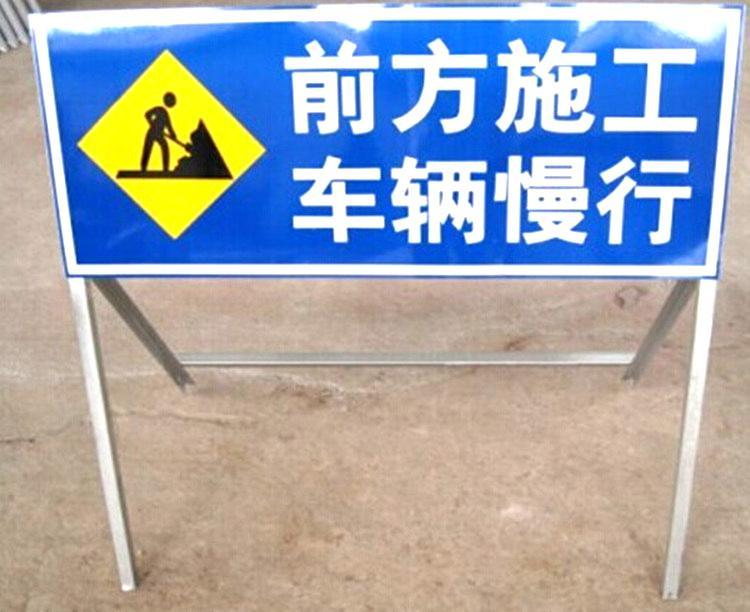sign: (35, 17, 727, 273)
